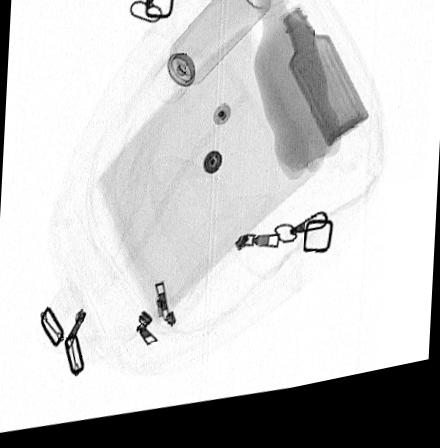Sprayer: (152, 0, 271, 110)
